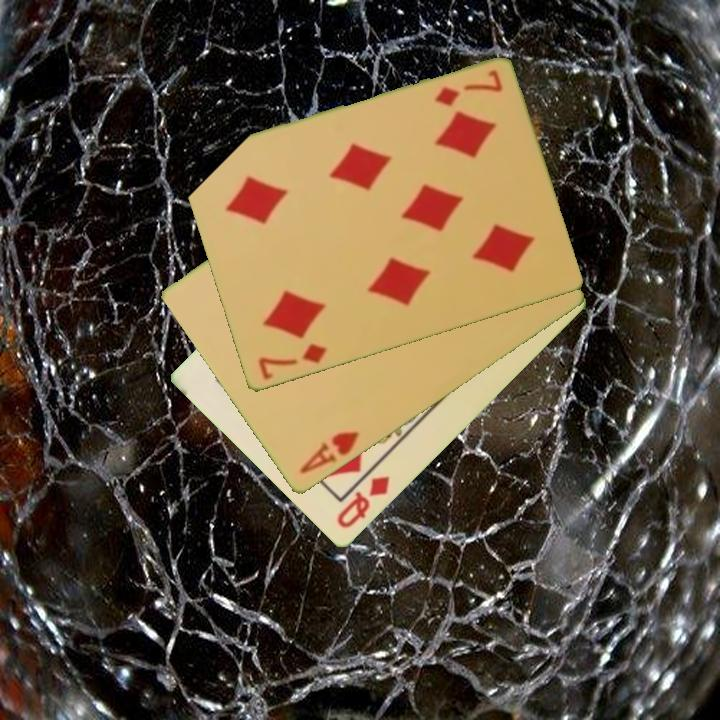7d: (254, 340, 330, 384), (430, 66, 505, 110)
Ah: (295, 428, 362, 478)
Qd: (333, 473, 393, 532)
